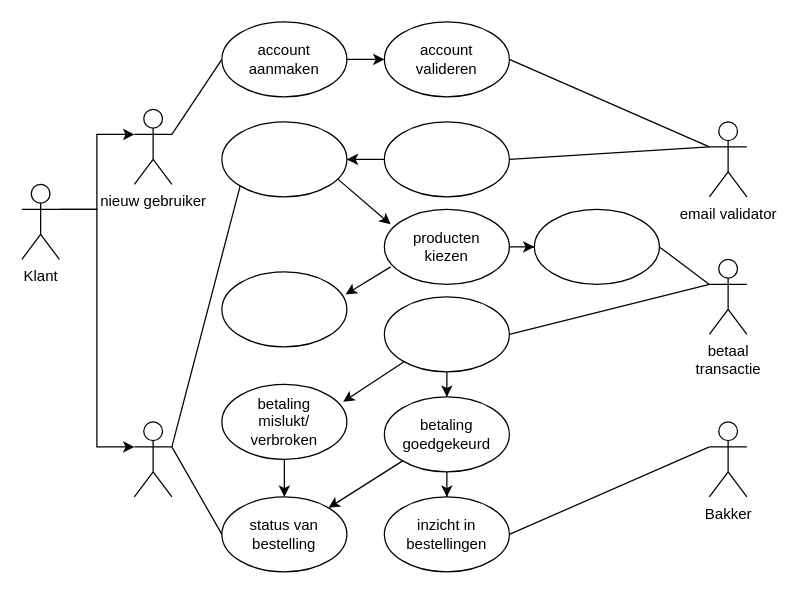
The diagram is 798 pixels wide and 594 high, and some of its shapes have lost their labels. Each missing label, with the centre of its shape:
"account goedgekeurd" goes at point (446, 159).
"account inloggen" goes at point (284, 159).
"bestelling afbreken" goes at point (284, 309).
"bestelling afronden" goes at point (596, 246).
"betaling goedkeuren" goes at point (446, 334).
"gebruiker" goes at point (152, 459).
